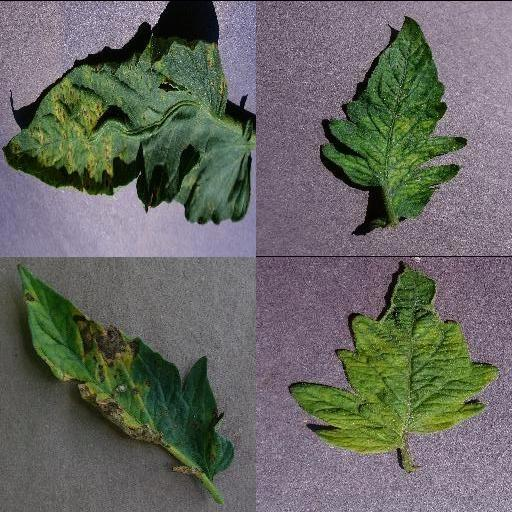Early Blight: (17, 265, 239, 473)
Mosaic Virus: (287, 261, 503, 453), (319, 13, 469, 221)
Septoria: (1, 34, 256, 226)
